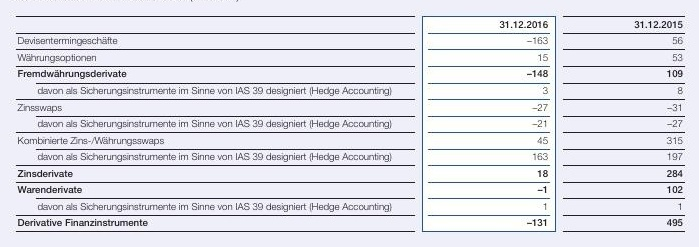table: (0, 0, 699, 247)
